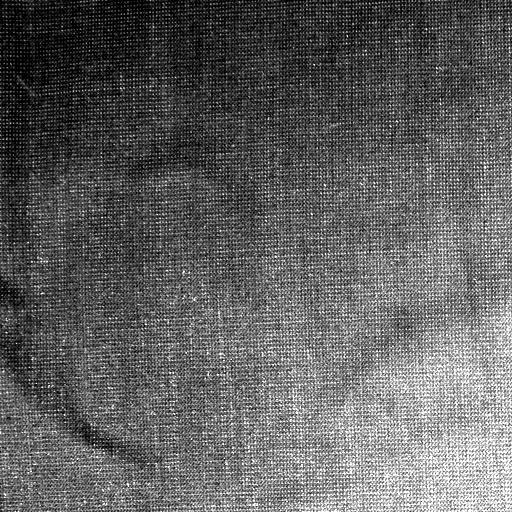fabric_perfect: (0, 0, 508, 506)
